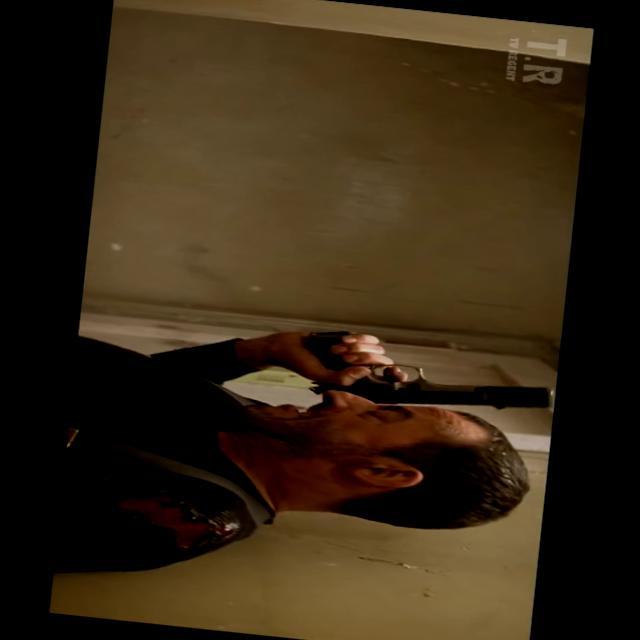handgun: (258, 322, 570, 426)
